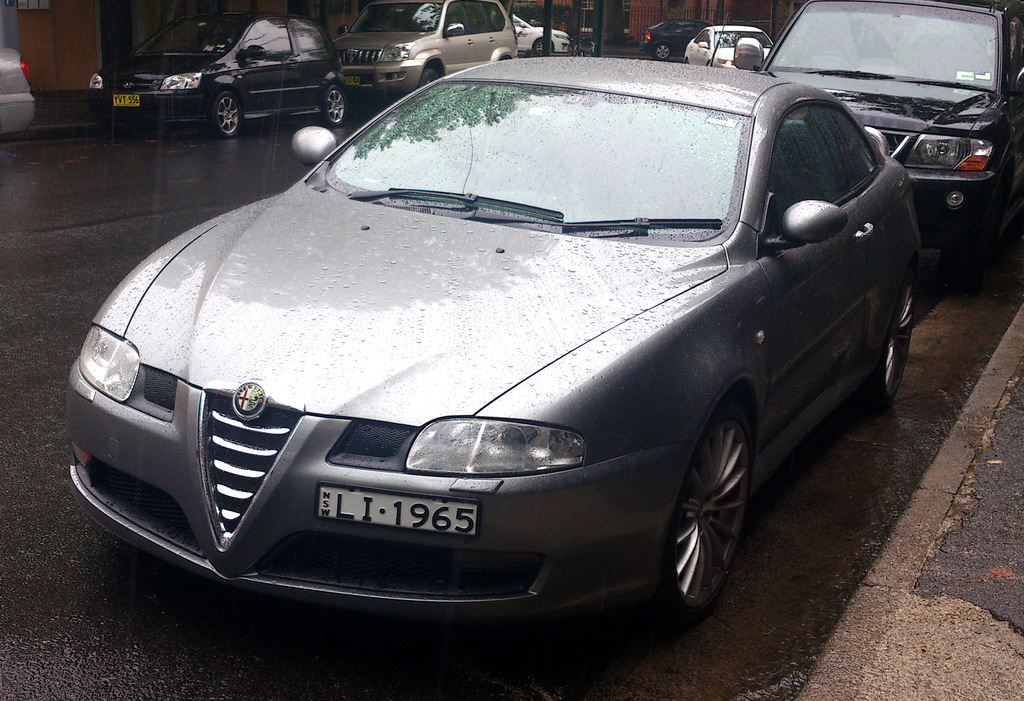Car: (66, 7, 924, 611), (755, 0, 1023, 245), (97, 7, 356, 134), (332, 0, 523, 92), (682, 23, 777, 69), (0, 44, 37, 134), (641, 17, 711, 61), (510, 14, 574, 58)
